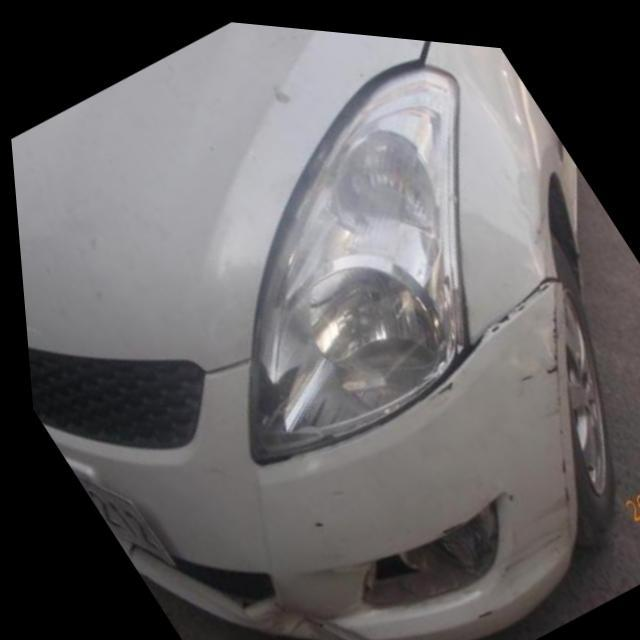dent: (227, 583, 367, 640)
dislocated part: (416, 258, 554, 388)
scratch: (515, 289, 569, 529)
